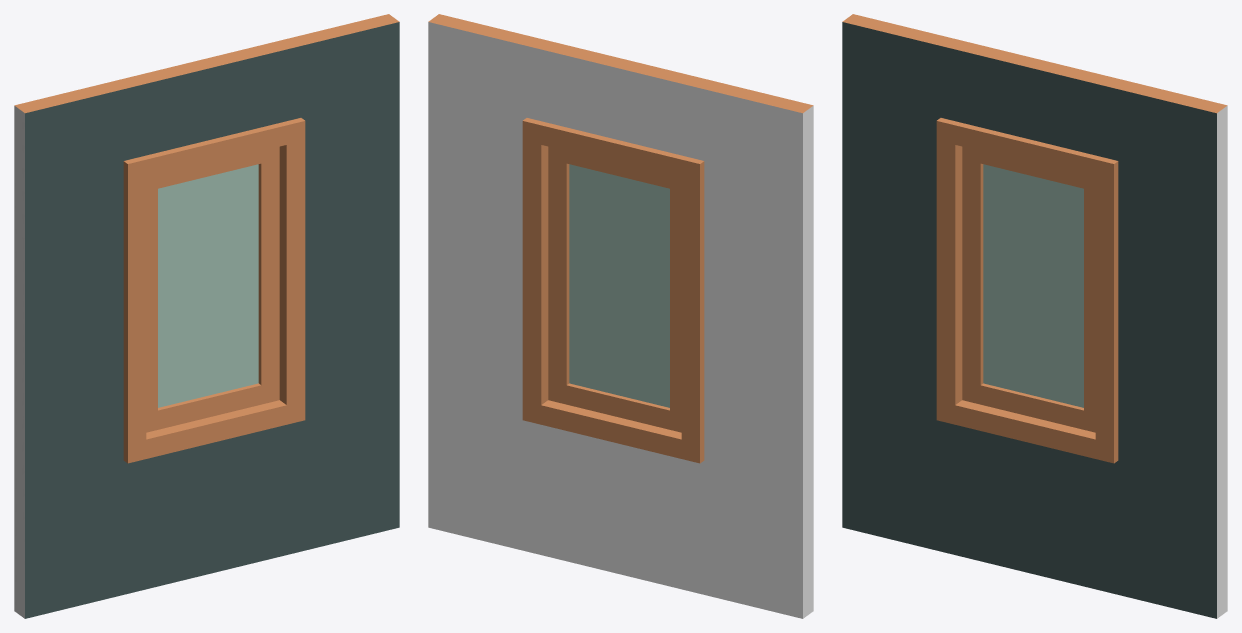
Rendered from wallWindow.obj.
3 views of the same model, side by side, from view 1: azimuth 30°, elevation 25°; view 2: azimuth 150°, elevation 25°; view 3: azimuth 330°, elevation 25° (orthographic).
Parts seen in each view (by area): view 1: wallWindow, window; view 2: wallWindow, window; view 3: wallWindow, window.
Boxes of the visible parts, <box> form: wallWindow: <box>14,14,399,618</box>; window: <box>146,146,279,432</box>; wallWindow: <box>428,14,813,618</box>; window: <box>548,146,681,432</box>; wallWindow: <box>842,14,1227,618</box>; window: <box>962,146,1095,432</box>.
Bounding box in the file's own units: 1 × 1.29 × 0.0891.
